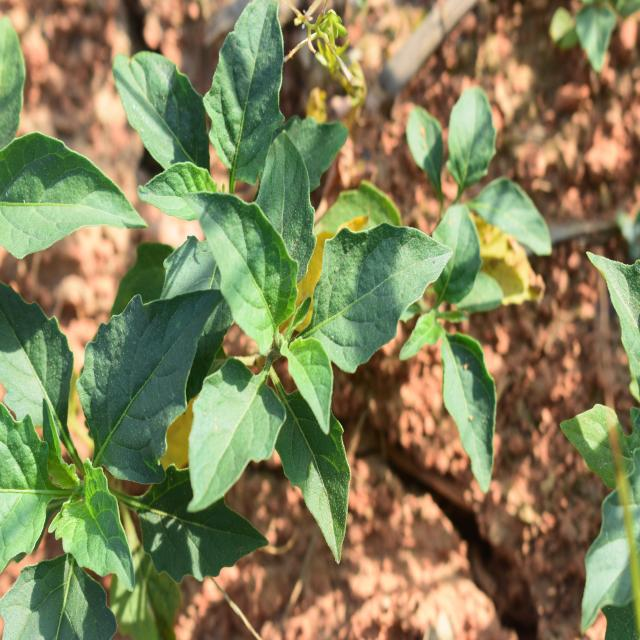Black_nightshade: (206, 163, 450, 541), (0, 283, 225, 617), (100, 11, 320, 265)
